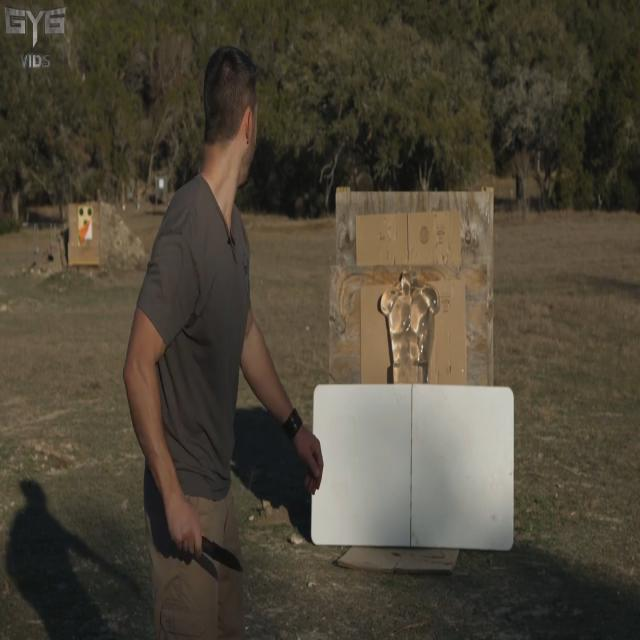knife: (199, 534, 249, 576)
